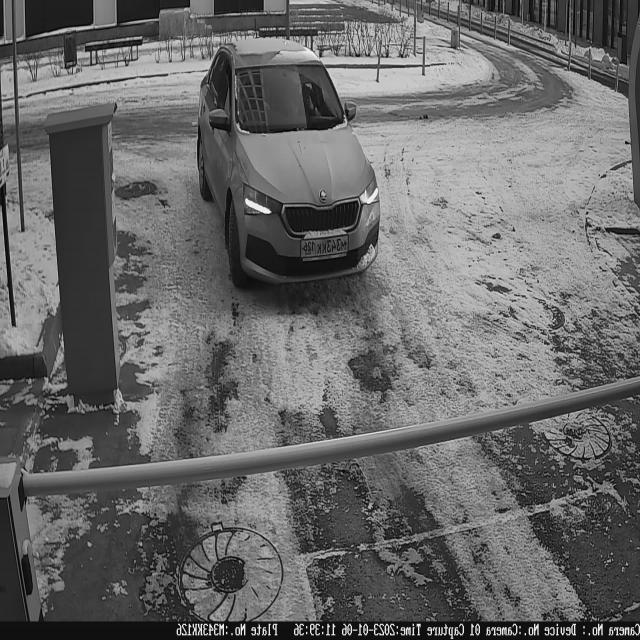car-plate-numbers: (299, 229, 353, 272)
